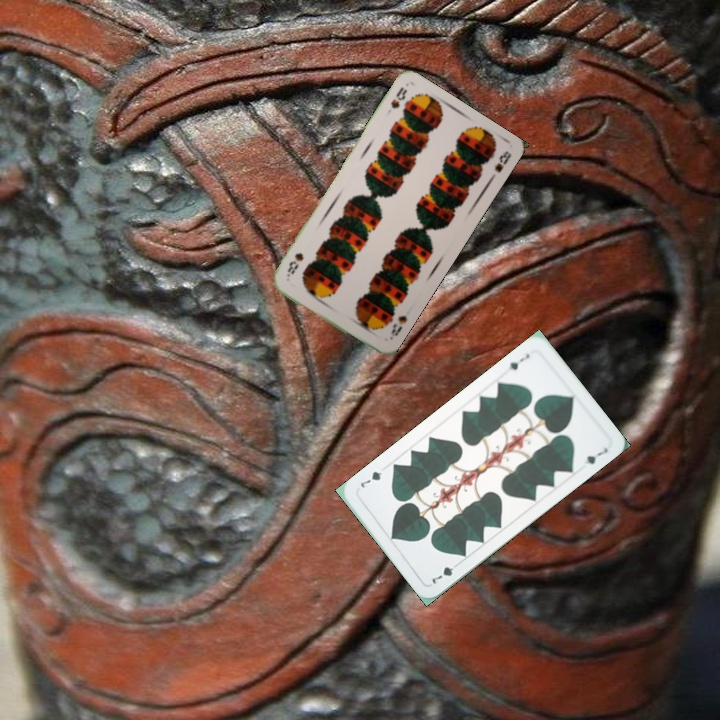G7: (428, 558, 462, 587), (505, 349, 532, 373)
S8: (385, 311, 410, 342), (387, 83, 410, 112)
